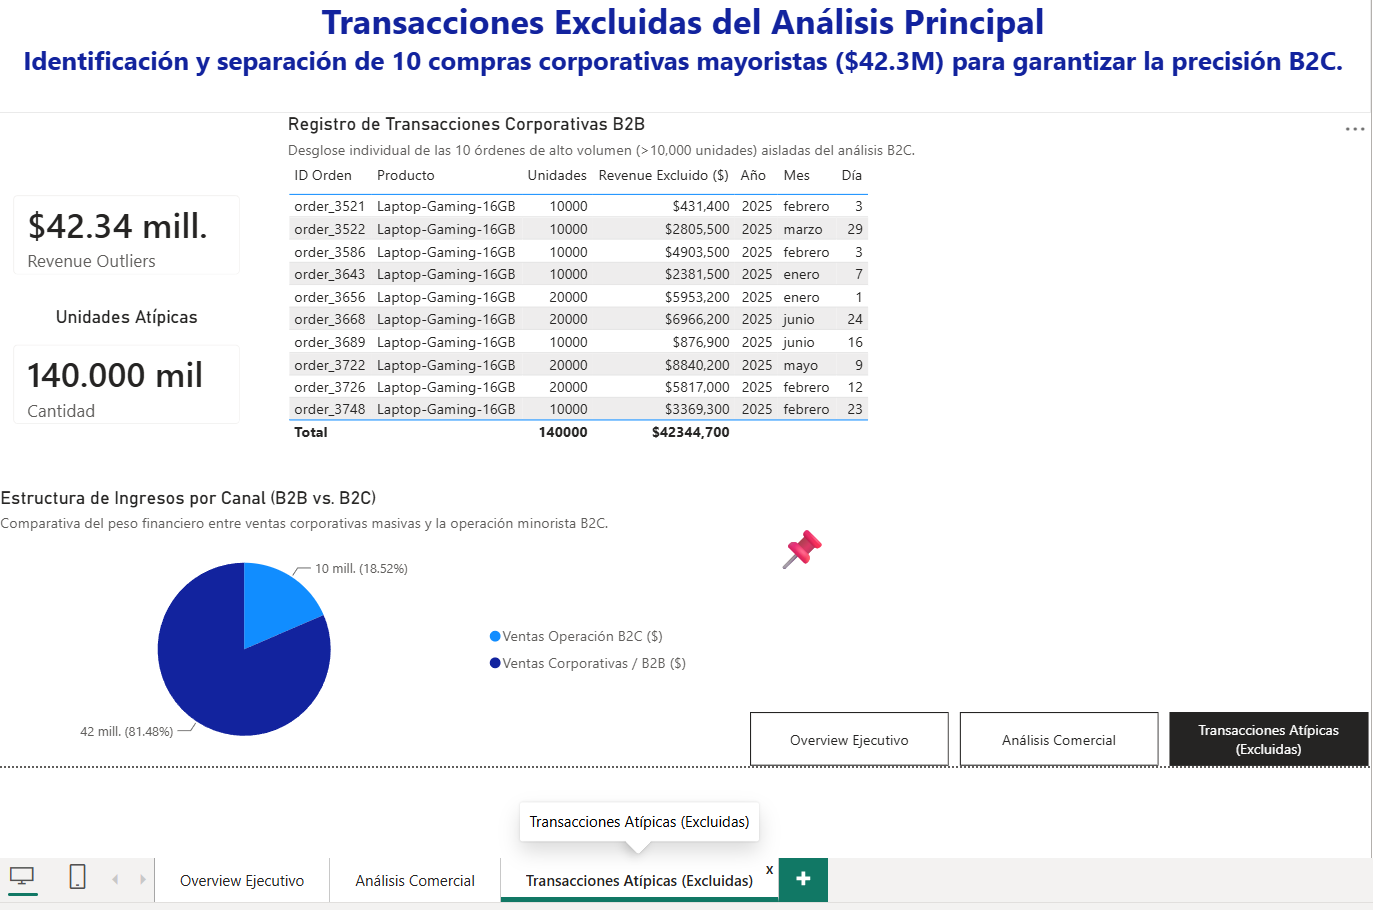

What the dashboard file says about the page in this screenshot:
{"tool":"powerbi","page":{"name":" Transacciones Atípicas (Excluidas)","canvas":[1280,720],"ordinal":2},"visuals":[{"type":"textbox","box":[0,0,1280.2,112.8],"z":0},{"type":"textbox","box":[691.9,487.2,118.6,76.7],"z":1000},{"type":"cardVisual","fields":{"Data":["orders_outliers.Revenue Outliers"]},"box":[0,172.1,245.3,108.1],"z":2000},{"type":"tableEx","title":"Registro de Transacciones Corporativas B2B","fields":{"Values":["orders_outliers.id_pedido","orders_outliers.nombre_producto","Sum(orders_outliers.cantidad)","Sum(orders_outliers.monto_total)","orders_outliers.fecha_hora_pedido.Variación.Jerarquía de fechas.Año","orders_outliers.fecha_hora_pedido.Variación.Jerarquía de fechas.Mes","orders_outliers.fecha_hora_pedido.Variación.Jerarquía de fechas.Día"]},"box":[267.4,112.8,612.8,325.6],"z":3000},{"type":"pieChart","title":"Estructura de Ingresos por Canal (B2B vs. B2C)","fields":{"Y":["orders_clean.Revenue Total","orders_outliers.Revenue Outliers"]},"box":[0,460.5,657,259.3],"z":4000},{"type":"cardVisual","title":"Unidades Atípicas","fields":{"Data":["Sum(orders_outliers.cantidad)"]},"box":[0,291.9,245.3,127.9],"z":5000},{"type":"pageNavigator","box":[702.3,669.8,577.9,50],"z":5001}]}

Visuals, with their boxes on the page's 1280x720 design canvas (x1, y1, x2, y2). These are canvas units, not pixel positions in the 1373x910 screenshot, which may show the page scaled, cropped or inside an application window:
textbox: 0 0 1280 113
textbox: 692 487 810 564
cardVisual - orders_outliers.Revenue Outliers: 0 172 245 280
"Registro de Transacciones Corporativas B2B" tableEx: 267 113 880 438
"Estructura de Ingresos por Canal (B2B vs. B2C)" pieChart: 0 460 657 720
"Unidades Atípicas" cardVisual: 0 292 245 420
pageNavigator: 702 670 1280 720
